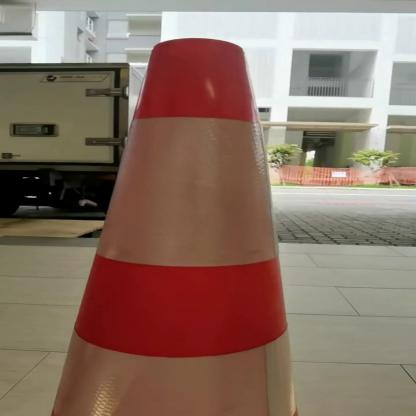cone: (49, 35, 307, 416)
